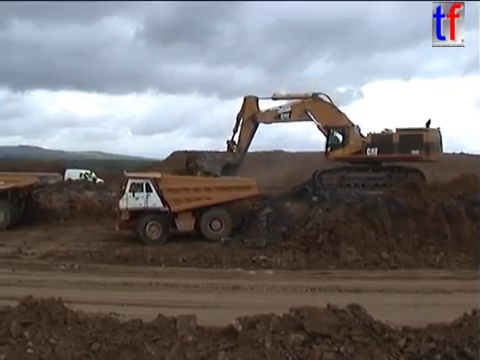excavator: (193, 89, 447, 201)
truck: (112, 168, 260, 246), (1, 170, 63, 231)
worker: (89, 169, 99, 189), (81, 169, 90, 188)
